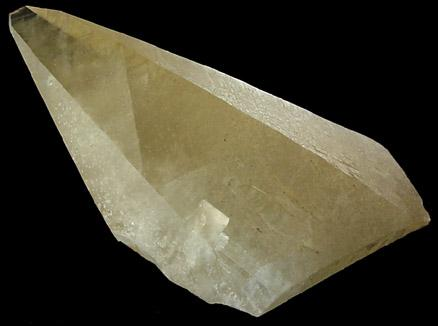calcite: (9, 6, 430, 316)
